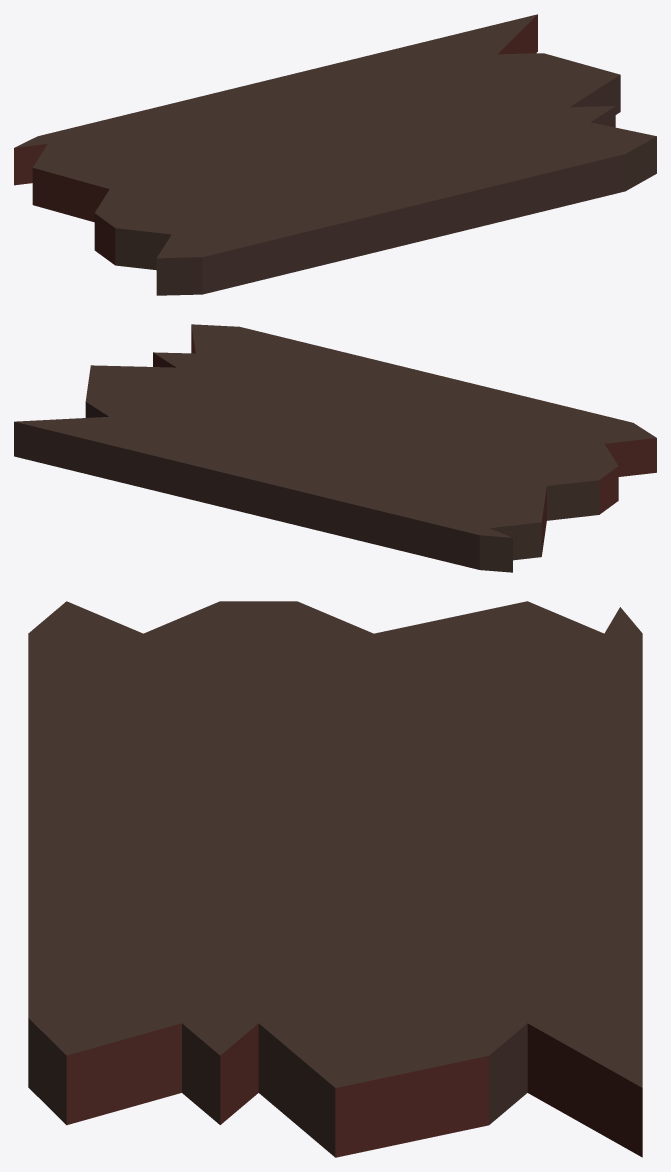
The model's file is Wood Shard.gltf.
3 renders of one model, top to bottom at view 1: azimuth 30°, elevation 25°; view 2: azimuth 150°, elevation 25°; view 3: azimuth 270°, elevation 25°, orthographic. The views are drawn at different scales.
Visible parts, largest first — view 1: mesh; view 2: mesh; view 3: mesh.
Boxes of the visible parts, box(x1,y1,x2,y2) form: mesh: box(14, 14, 656, 295); mesh: box(14, 324, 656, 572); mesh: box(28, 601, 642, 1157).
Bounding box in the file's own units: 0.9375 × 0.0625 × 0.5.
Materials: 1 (1 with a texture image).
